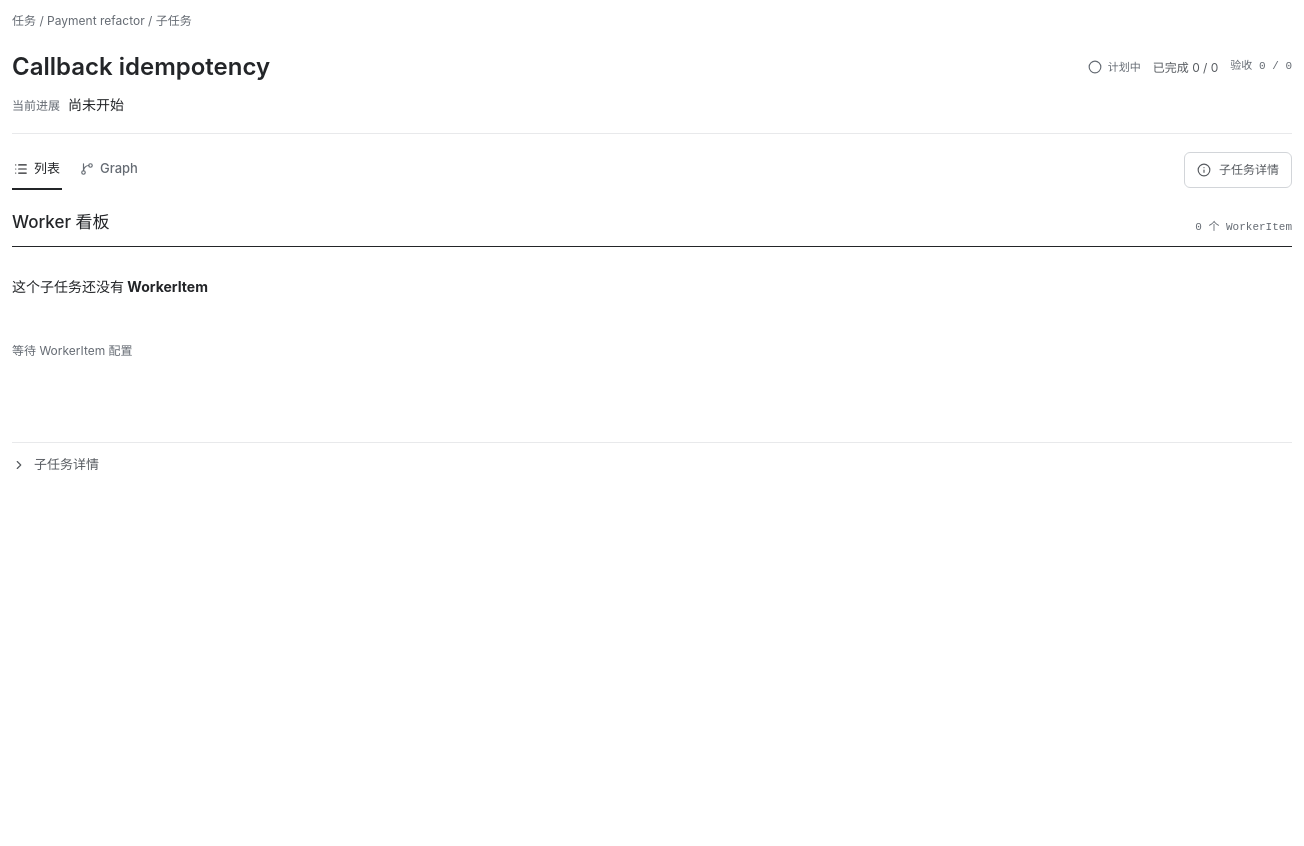
Test case: NativeSubtaskAppointment › lets an unassigned Task choose a permitted Profile before one explicit save
Click the button with aria-label "查看子任务详情": {"x": 1238, "y": 170} [1184,152,1292,188]
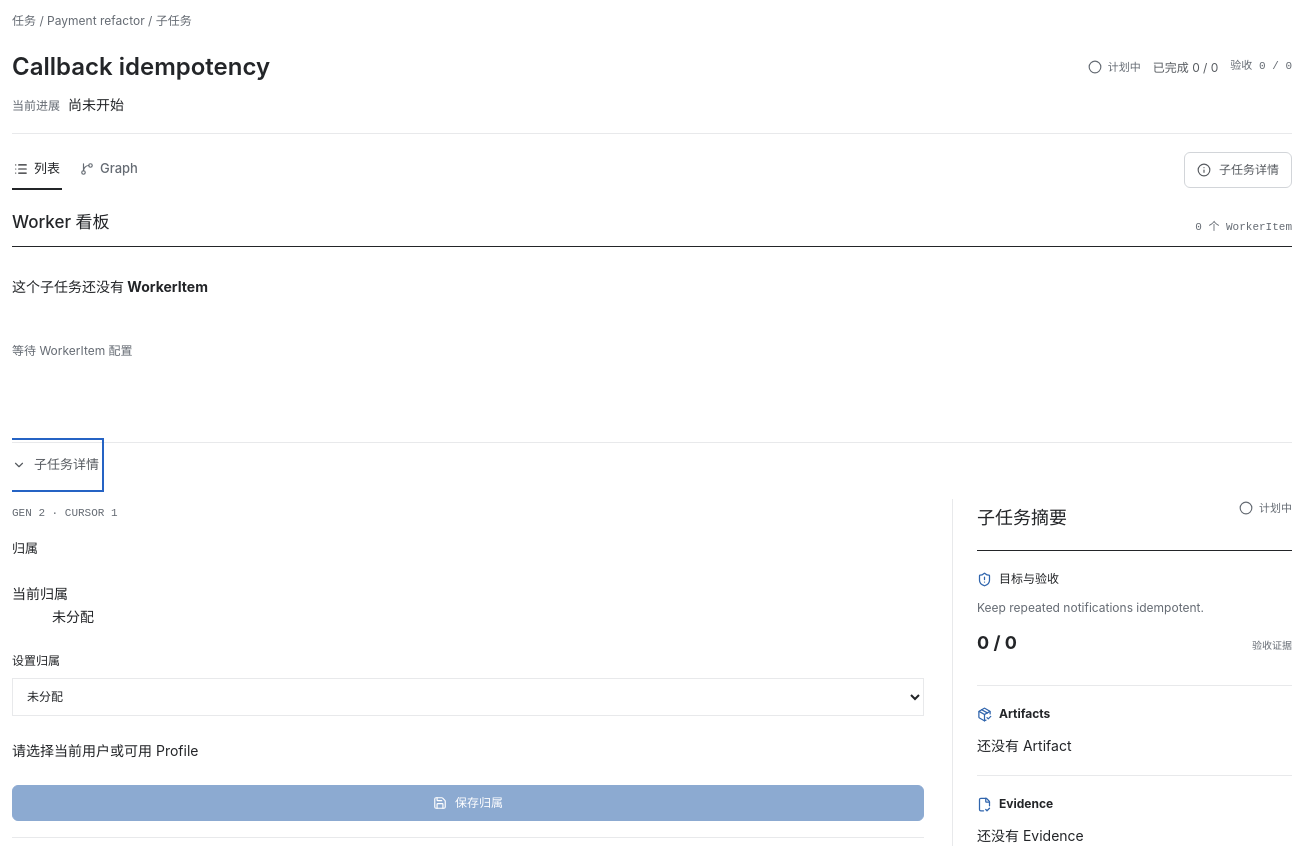
expect the dropdown labelled "设置归属" is enabled: met
expect the text "未分配" is shown: met, box [52,608,94,625]
expect the dropdown labelled "设置归属" shows "未分配": met
Select "Reusable reviewer · R1" in the dropdown labelled "设置归属": {"x": 468, "y": 697} [12,678,924,716]
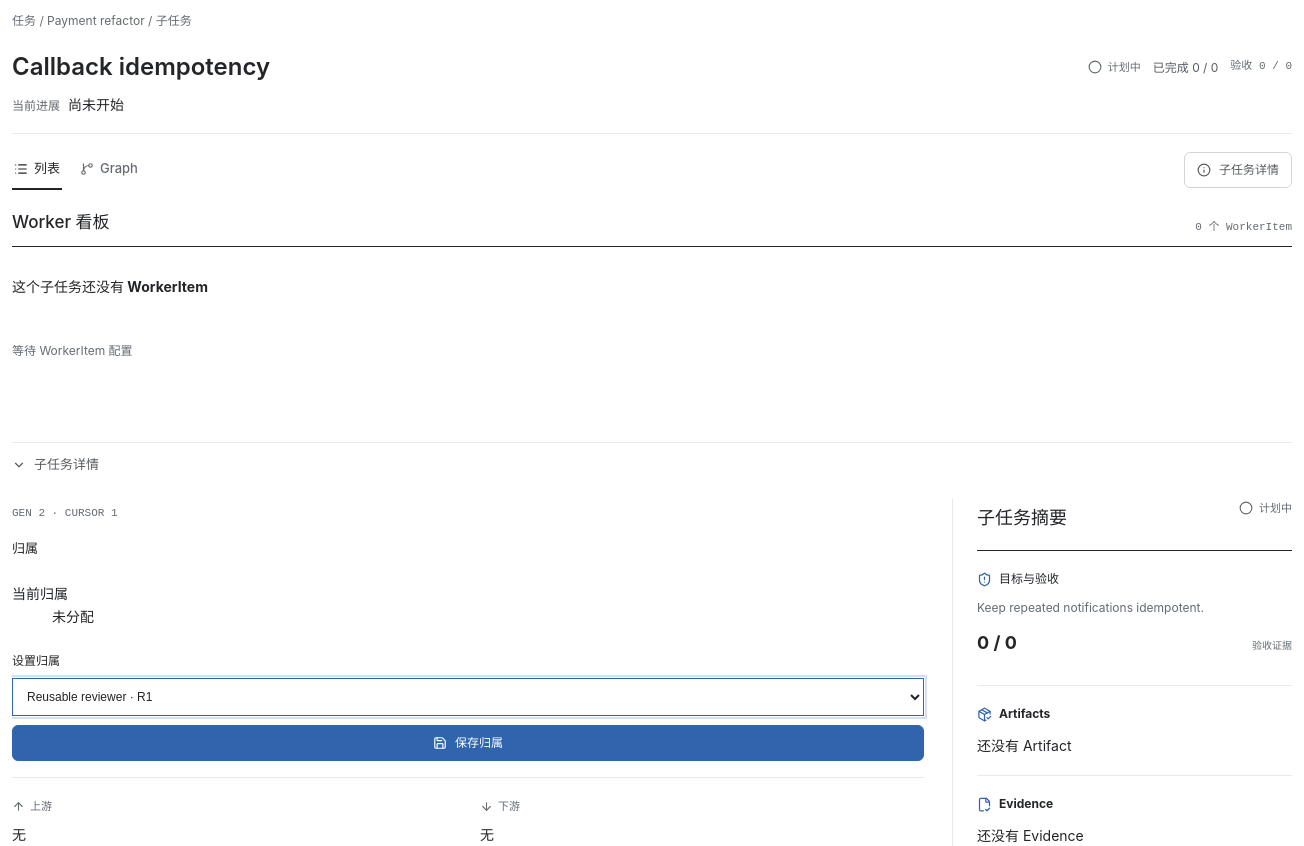
expect the text "未分配" is shown: met, box [52,608,94,625]
expect the button "保存归属" is enabled: met
Click the button "保存归属": {"x": 468, "y": 743} [12,725,924,761]
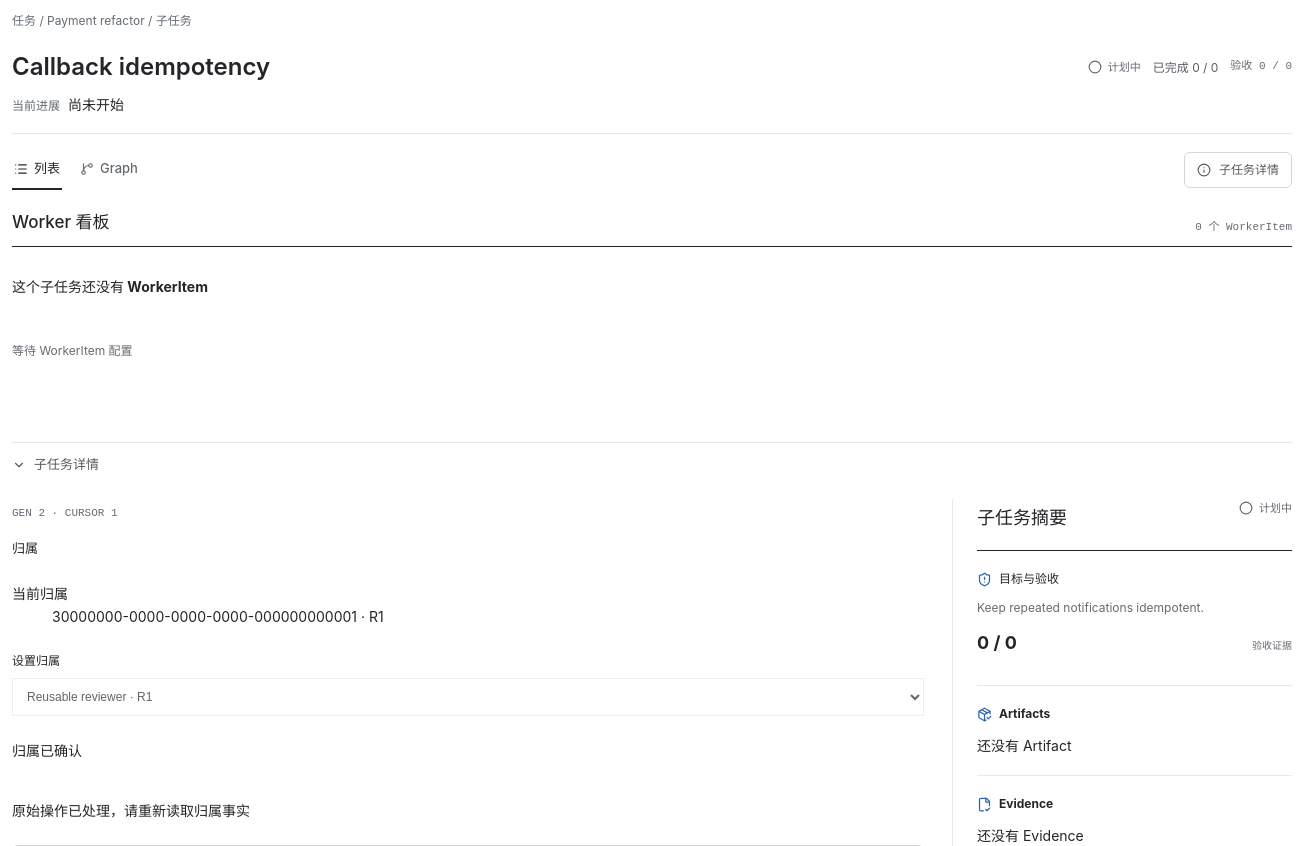
expect the text "归属已确认" is shown: met, box [12,742,82,759]
